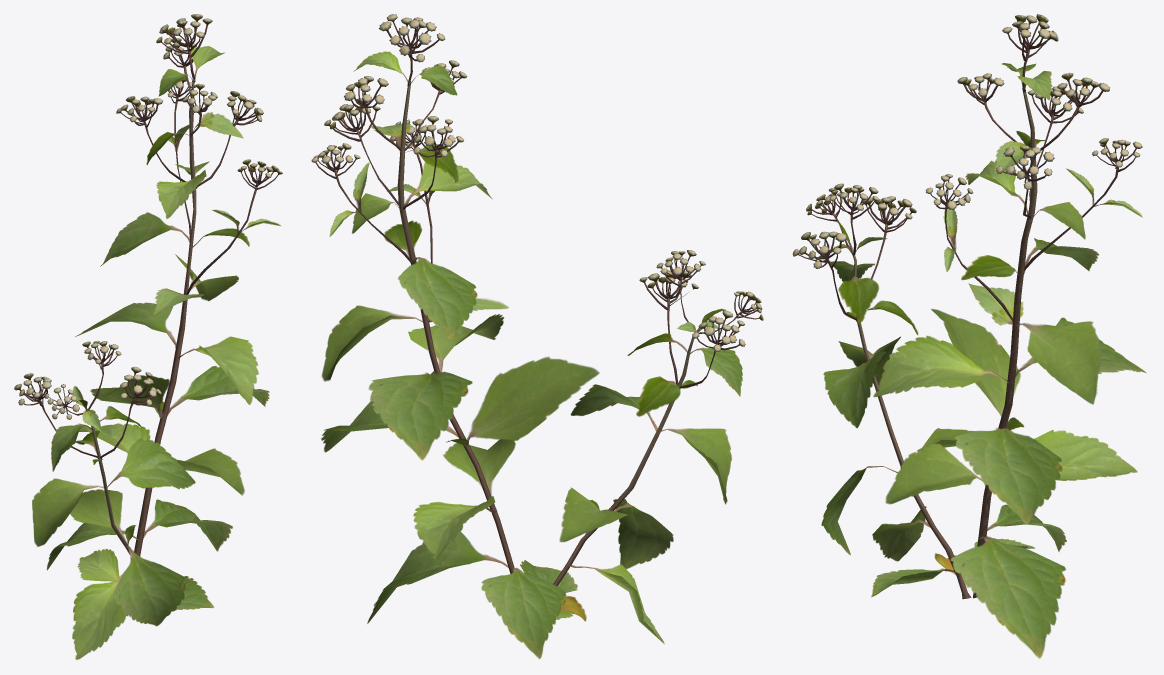
The model's file is shrub_01.glb.
3 views of the same model, side by side, from view 1: azimuth 30°, elevation 25°; view 2: azimuth 150°, elevation 25°; view 3: azimuth 270°, elevation 25° (orthographic). The views are drawn at different scales.
Parts seen in each view (by area): view 1: shrub_01_h_LOD2; view 2: shrub_01_h_LOD2; view 3: shrub_01_h_LOD2.
Part boxes in pixels (<box>): shrub_01_h_LOD2: <box>14,14,282,659</box>; shrub_01_h_LOD2: <box>311,14,763,659</box>; shrub_01_h_LOD2: <box>792,14,1146,658</box>.
Bounding box in the file's own units: 0.2304 × 0.3934 × 0.1998.
Materials: 1 (1 with a texture image).
